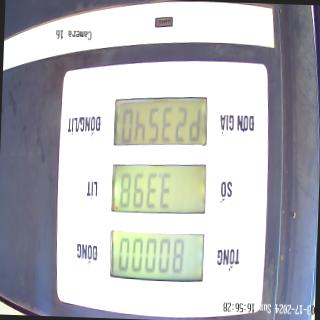screen: (106, 89, 212, 288)
